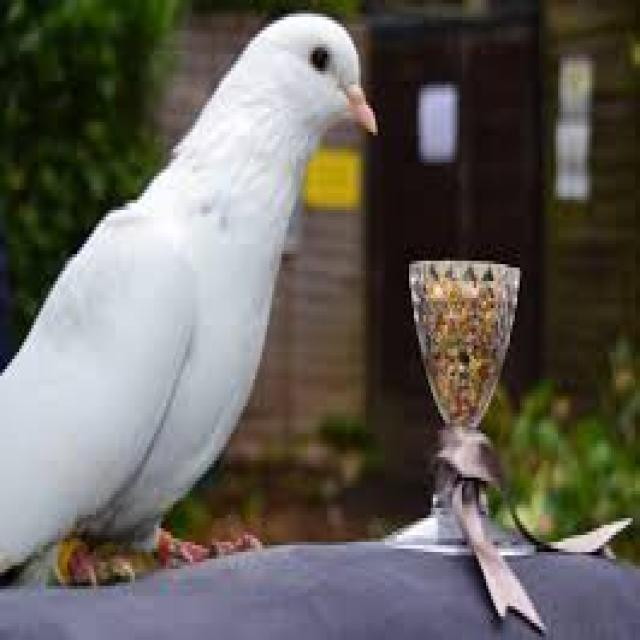Pigeon: (0, 9, 383, 584)
